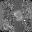people: (13, 10, 24, 21)
